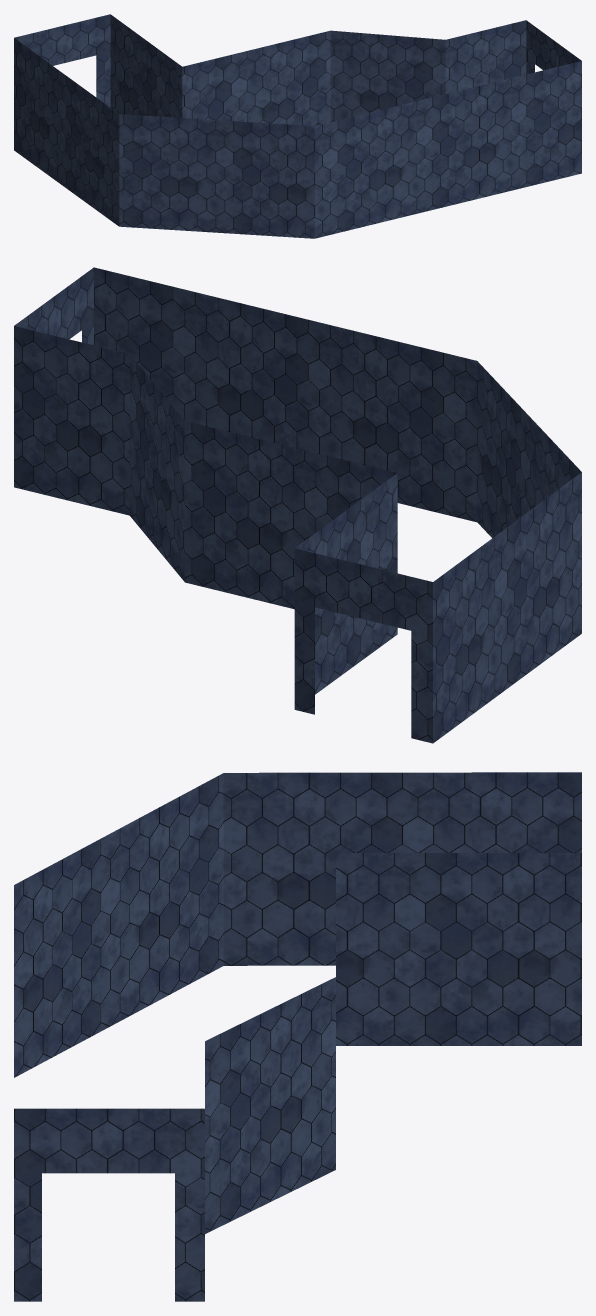
File: Wall.fbx
3 views of the same model, one above another, from view 1: azimuth 30°, elevation 25°; view 2: azimuth 150°, elevation 25°; view 3: azimuth 270°, elevation 25° (orthographic). The views are drawn at different scales.
Parts seen in each view (by area): view 1: Wall; view 2: Wall; view 3: Wall.
Boxes of the visible parts, x1,y1,x2,y2 form: Wall: (14,14,581,238); Wall: (14,267,581,743); Wall: (14,772,581,1301).
Bounding box in the file's own units: 38.75 × 10.37 × 27.66.
Materials: 1 (1 with a texture image).
